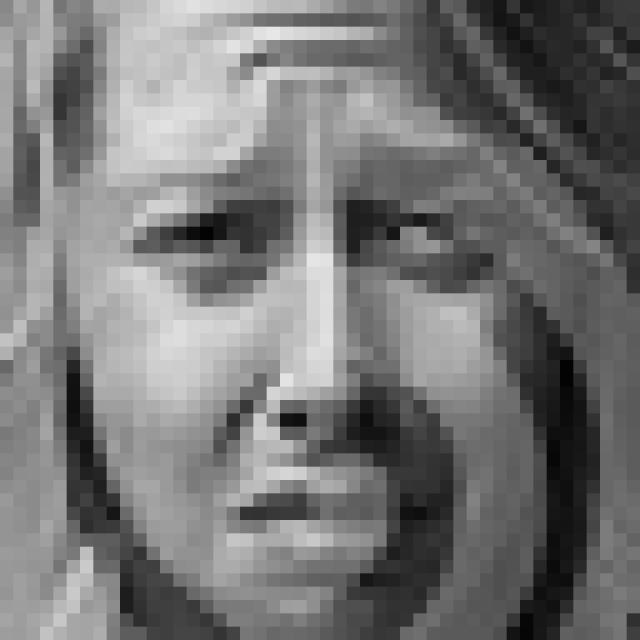sad: (121, 79, 508, 563)
